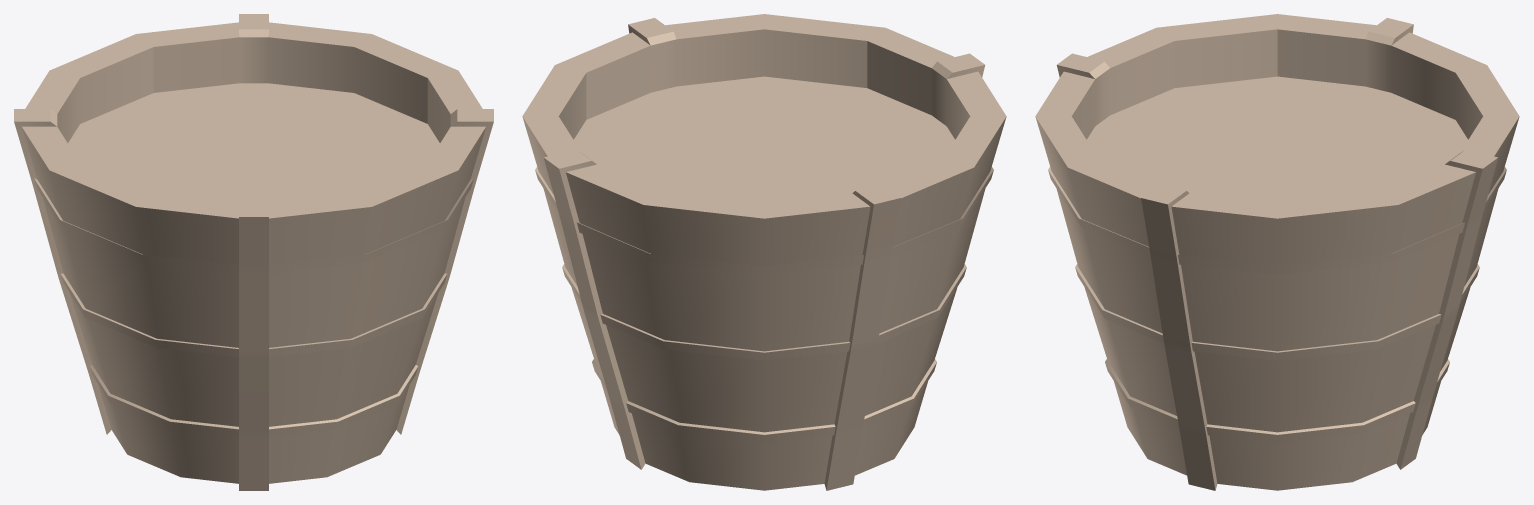
Rendered from fruitBasket-fixed.fbx.
3 renders of one model, left to right at view 1: azimuth 30°, elevation 25°; view 2: azimuth 150°, elevation 25°; view 3: azimuth 270°, elevation 25°, orthographic. The views are drawn at different scales.
Parts seen in each view (by area): view 1: fruitBasket; view 2: fruitBasket; view 3: fruitBasket.
Boxes of the visible parts, <box> form: fruitBasket: <box>14,14,493,490</box>; fruitBasket: <box>522,14,1006,490</box>; fruitBasket: <box>1035,14,1519,490</box>.
Size of the model in its own units: 99.21 by 72.63 by 99.21.
